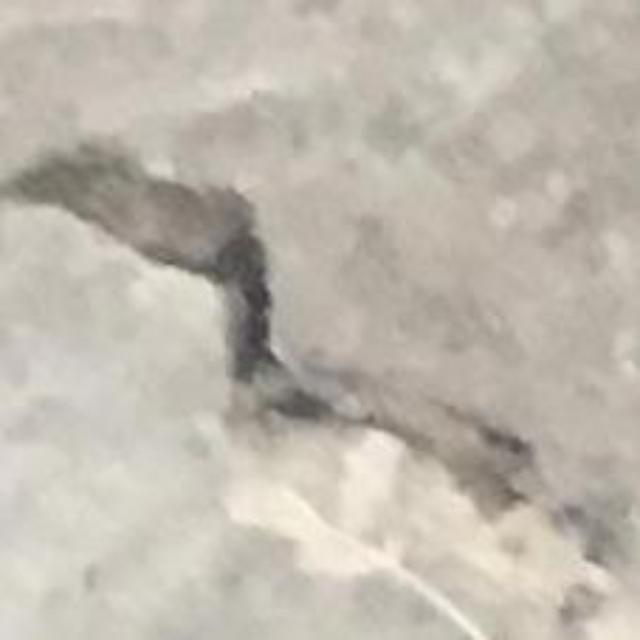crack: (0, 141, 623, 566)
